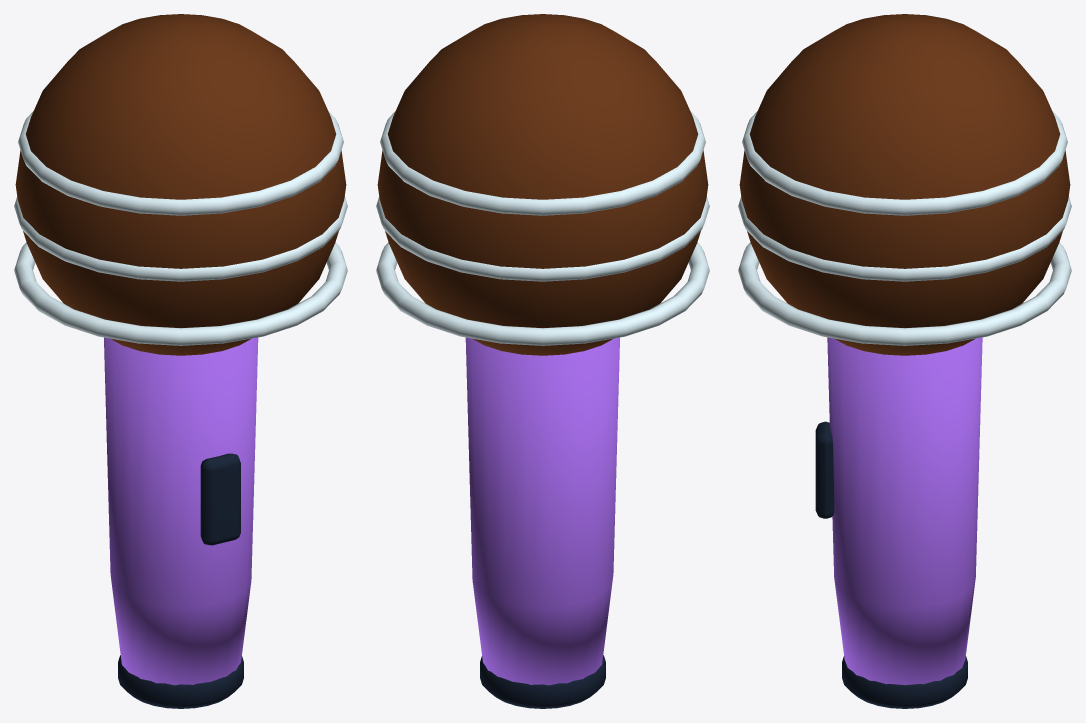
Rendered from microphone.glb.
The picture shows the model from 3 angles, left to right: view 1: azimuth 30°, elevation 25°; view 2: azimuth 150°, elevation 25°; view 3: azimuth 270°, elevation 25°; orthographic projection.
Parts seen in each view (by area): view 1: microphone; view 2: microphone; view 3: microphone.
Boxes of the visible parts, box(x1,y1,x2,y2) form: microphone: box(14, 14, 347, 708); microphone: box(376, 14, 709, 708); microphone: box(738, 14, 1071, 708).
Size of the model in its own units: 0.4596 by 1 by 0.4596.
Materials: 1 (1 with a texture image).
